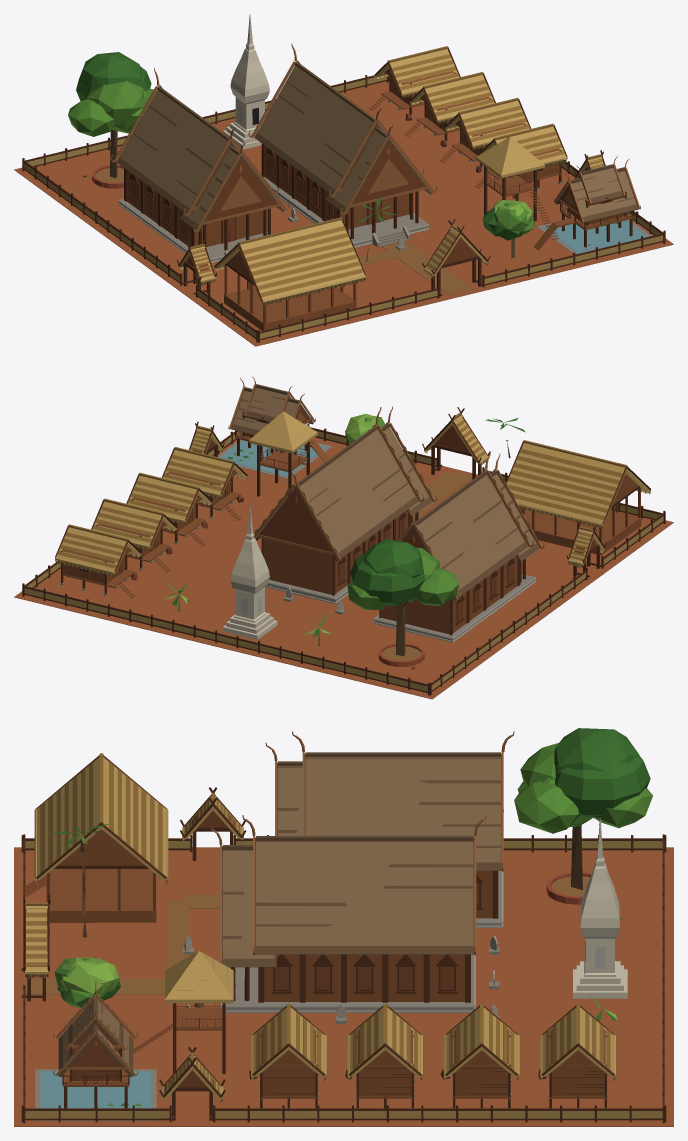
The model's file is temple_3.glb.
3 views of the same model, one above another, from view 1: azimuth 30°, elevation 25°; view 2: azimuth 150°, elevation 25°; view 3: azimuth 270°, elevation 25° (orthographic). The views are drawn at different scales.
Visible parts, largest first — view 1: body; view 2: body; view 3: body.
Boxes of the visible parts, left/top/right/bottom form: body: left=14, top=14, right=673, bottom=346; body: left=14, top=377, right=673, bottom=699; body: left=14, top=728, right=673, bottom=1126.
Bounding box in the file's own units: 47.9 × 13.99 × 47.9.
